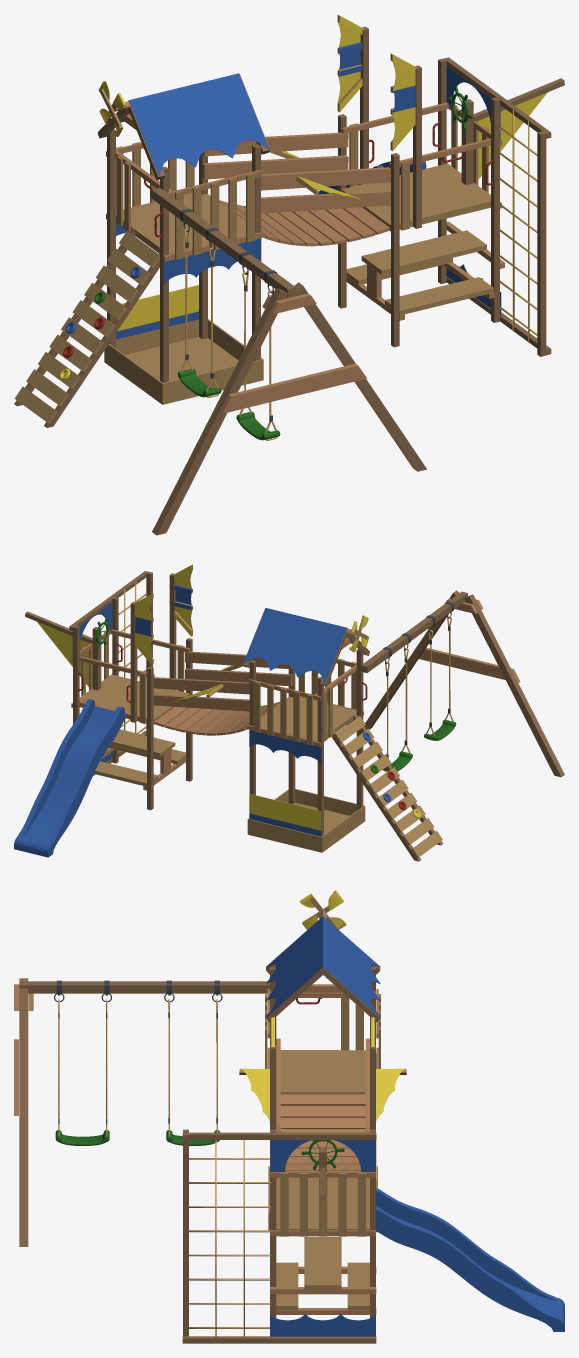
Rendered from Draft_forFBX.fbx.
3 views of the same model, one above another, from view 1: azimuth 30°, elevation 25°; view 2: azimuth 150°, elevation 25°; view 3: azimuth 270°, elevation 25° (orthographic). The views are drawn at different scales.
Visible parts, largest first — view 1: Plane, Cube.025, Cube, Cube.010, Cube.017, Cube.001, Cube.007, Cube.024, Cube.008, Cube.020, Cube.019, Cube.031 (+22 smaller); view 2: Cube.046, Plane, Cube.025, Cube.010, Cube, Cube.017, Cube.007, Cube.001, Cube.008, Cube.024, Plane.006, Cube.020 (+19 smaller); view 3: Cube.046, Plane, Cube.024, Cube.002, Cube.016, Cube.020, Cube.021, Cube.017, Cube.031, Plane.002, Cube.030, Cube.001 (+14 smaller).
Part boxes in pixels (bbox=[...]): Plane: bbox=[98, 73, 269, 175]; Cube.025: bbox=[202, 132, 390, 213]; Cube: bbox=[104, 319, 263, 404]; Cube.010: bbox=[14, 231, 159, 423]; Cube.017: bbox=[152, 282, 426, 535]; Cube.001: bbox=[338, 58, 499, 347]; Cube.007: bbox=[107, 129, 260, 382]; Cube.024: bbox=[219, 200, 389, 246]; Cube.008: bbox=[116, 142, 254, 259]; Cube.020: bbox=[341, 164, 490, 231]; Cube.019: bbox=[220, 363, 366, 413]; Cube.031: bbox=[361, 230, 486, 274]; Cube.046: bbox=[14, 699, 124, 857]; Plane: bbox=[243, 608, 355, 683]; Cube.025: bbox=[153, 651, 292, 711]; Cube.010: bbox=[334, 716, 442, 858]; Cube: bbox=[247, 789, 365, 852]; Cube.017: bbox=[364, 590, 564, 777]; Cube.007: bbox=[249, 649, 363, 836]; Cube.001: bbox=[73, 597, 192, 810]; Cube.008: bbox=[254, 658, 356, 745]; Cube.024: bbox=[154, 701, 280, 735]; Plane.006: bbox=[249, 793, 321, 836]; Cube.020: bbox=[79, 674, 189, 724]; Cube.046: bbox=[376, 1188, 564, 1331]; Plane: bbox=[266, 916, 380, 1017]; Cube.024: bbox=[276, 1094, 369, 1180]; Cube.002: bbox=[280, 1050, 365, 1094]; Cube.016: bbox=[19, 981, 269, 993]; Cube.020: bbox=[276, 1181, 369, 1230]; Cube.021: bbox=[280, 1173, 365, 1236]; Cube.017: bbox=[19, 978, 28, 1246]; Cube.031: bbox=[304, 1237, 341, 1289]; Plane.002: bbox=[270, 1314, 375, 1336]; Cube.030: bbox=[276, 1262, 369, 1309]; Cube.001: bbox=[270, 1129, 375, 1317].
Size of the model in its own units: 617 by 314 by 550.
